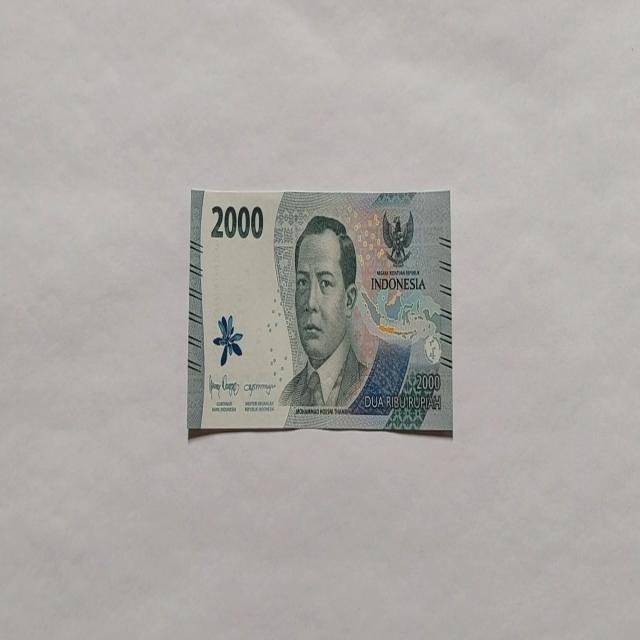dua ribu rupiah: (186, 186, 452, 438), (278, 213, 370, 410)
